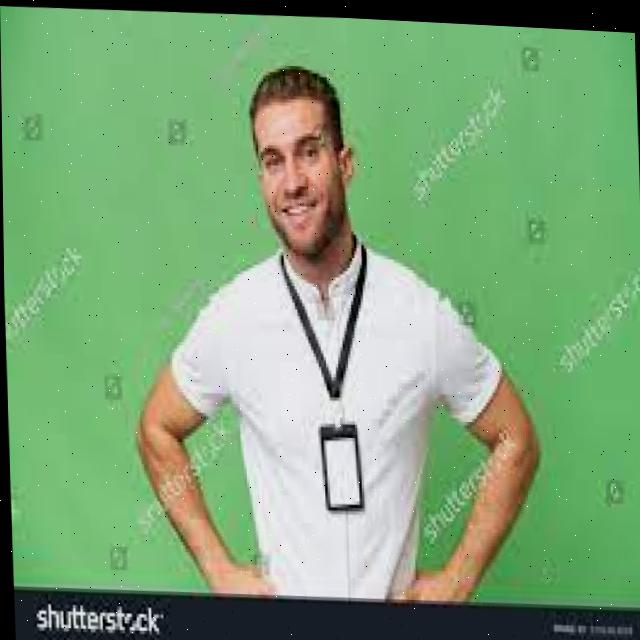id_card: (270, 247, 381, 517)
